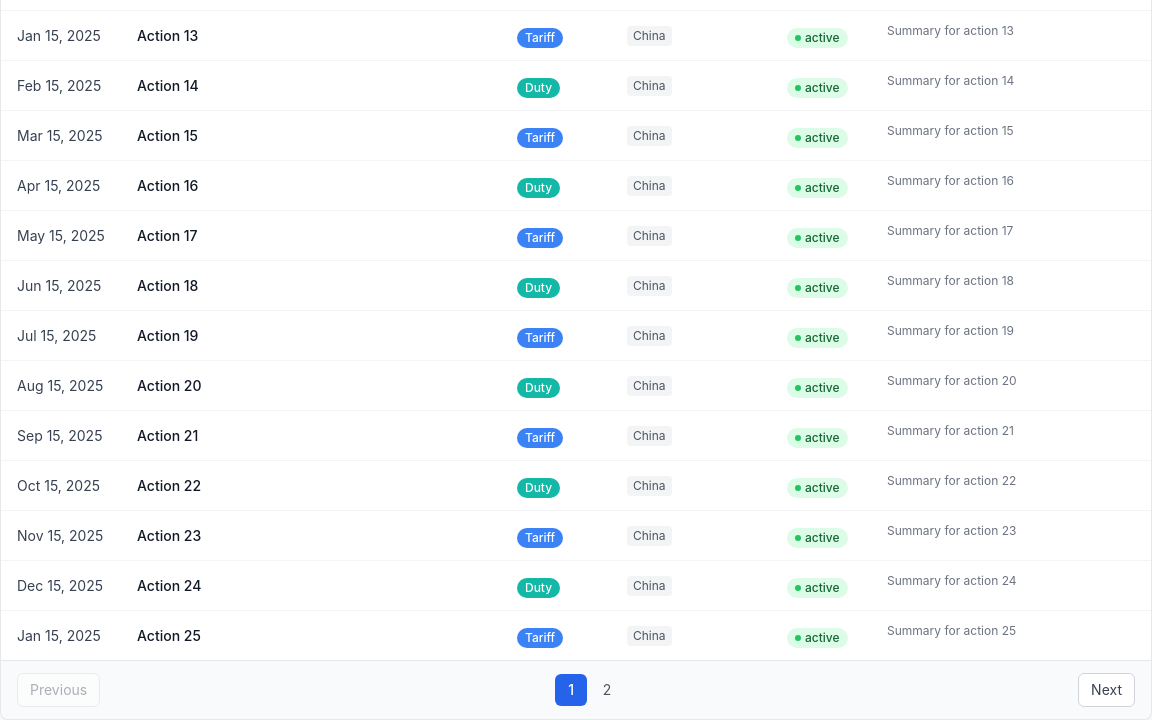
TableView — Pagination › navigates to next page when Next is clicked
This screenshot has width=1152, height=720.
(page scrolled)
Click the button "Next" at {"x": 1107, "y": 690}, box [1078,673,1135,707]
(page scrolled)
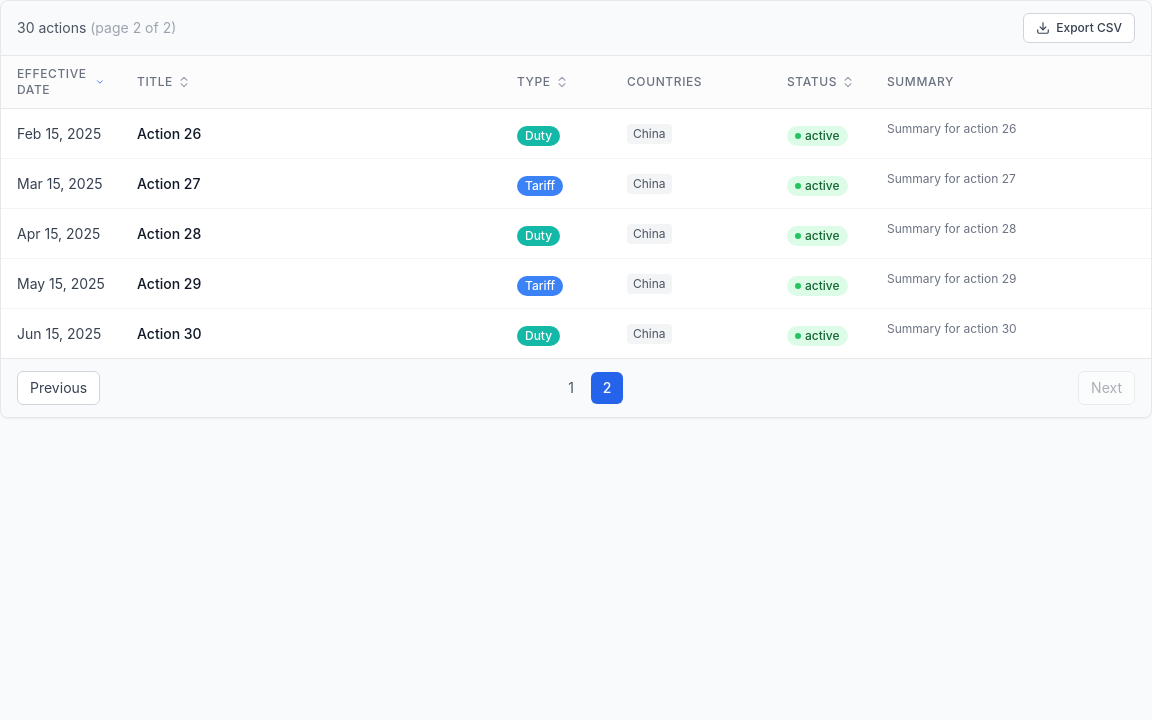
Expected: the text "Action 26" is shown, [137,124,201,142]
